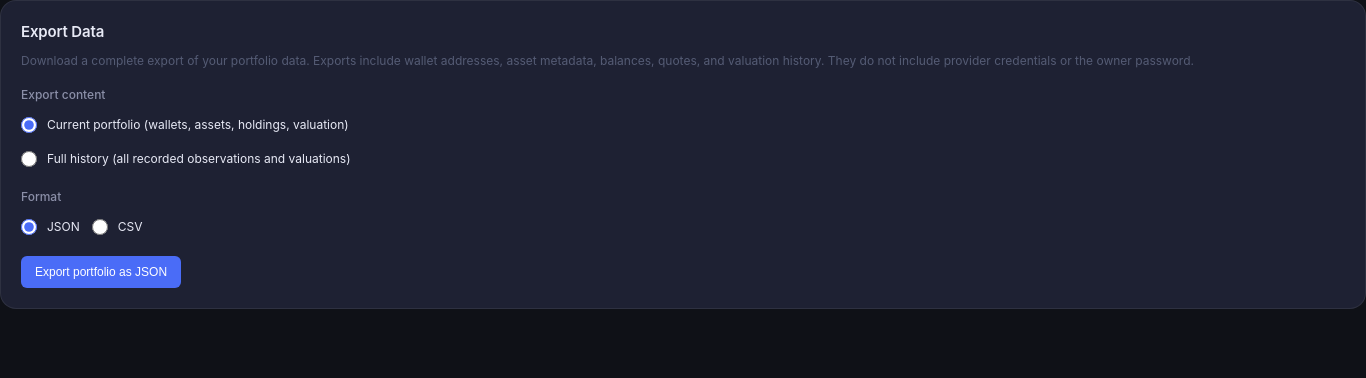
Test: ExportSection › shows the API error message when the export fails
Step 1. Click the submit button → click(101, 272), box [21,256,181,288]
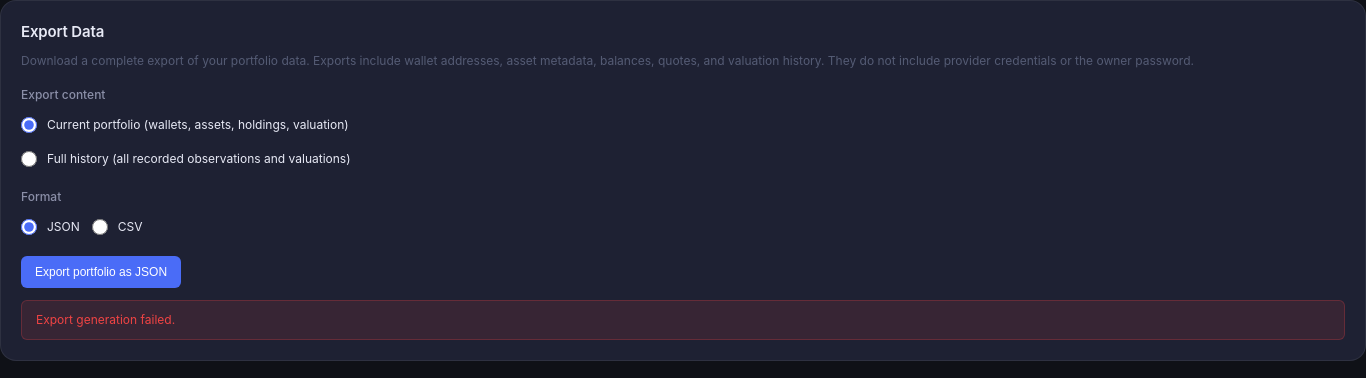
Result: the text "Export generation failed." is shown at [21,300,1345,340]
